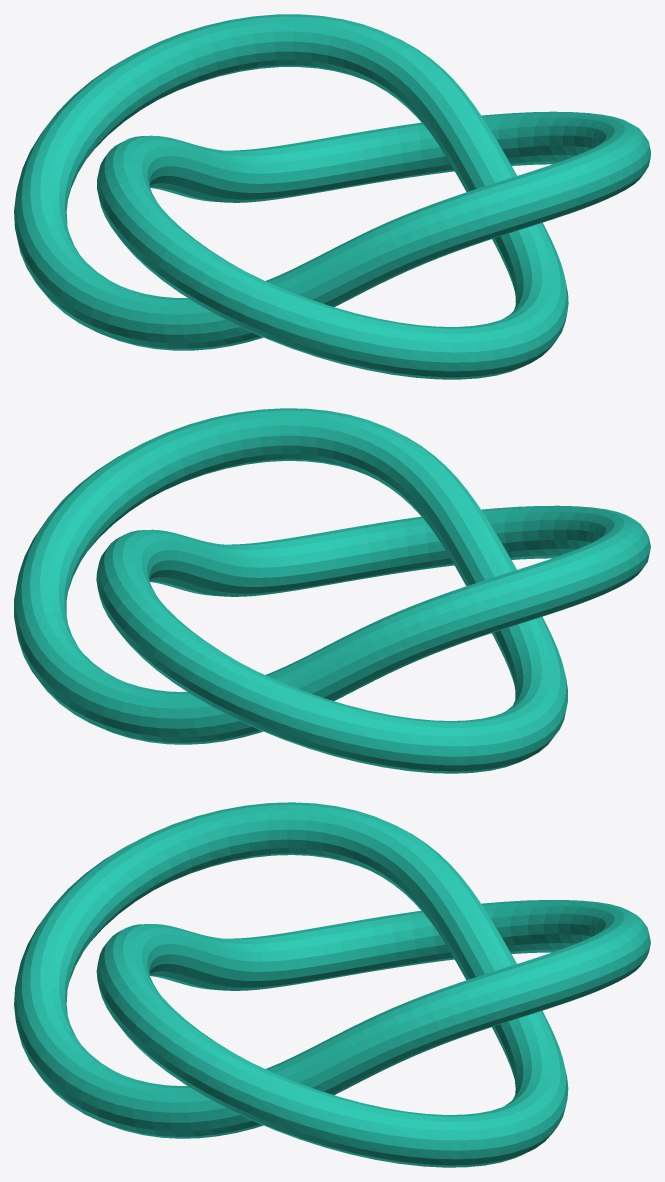
Rendered from studio.obj.
3 renders of one model, top to bottom at view 1: azimuth 30°, elevation 25°; view 2: azimuth 150°, elevation 25°; view 3: azimuth 270°, elevation 25°, orthographic.
Parts seen in each view (by area): view 1: TorusKnot; view 2: TorusKnot; view 3: TorusKnot.
Boxes of the visible parts, x1,y1,x2,y2 form: TorusKnot: [14, 14, 650, 379]; TorusKnot: [14, 408, 650, 773]; TorusKnot: [14, 802, 650, 1167].
Bounding box in the file's own units: 5.13 × 1.54 × 5.32.
